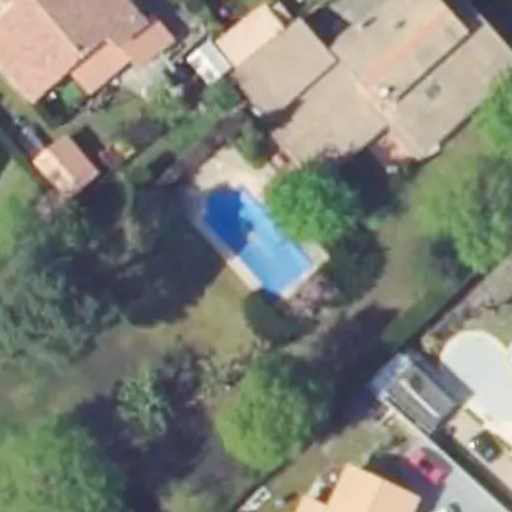pool: (191, 207, 308, 265)
